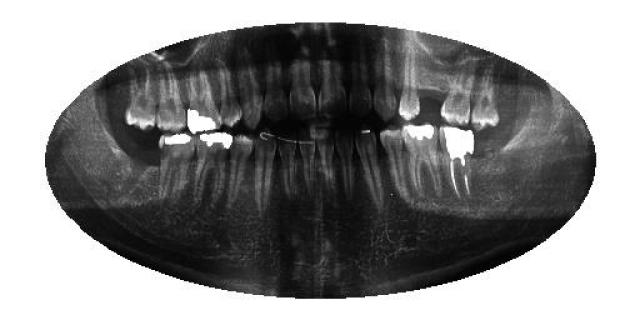Fillings: (400, 124, 445, 200), (192, 132, 232, 206), (156, 132, 198, 202), (186, 61, 222, 135)
Implant: (439, 125, 476, 200)
